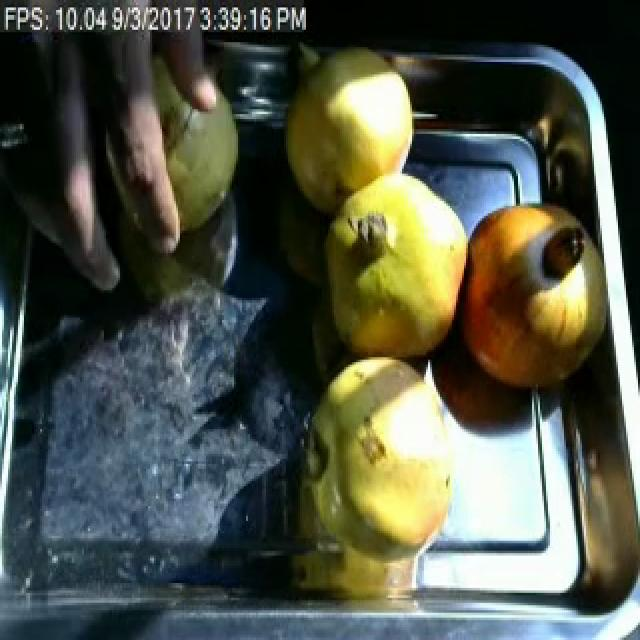fruit: (442, 188, 622, 404), (302, 342, 472, 563), (274, 40, 422, 216)
